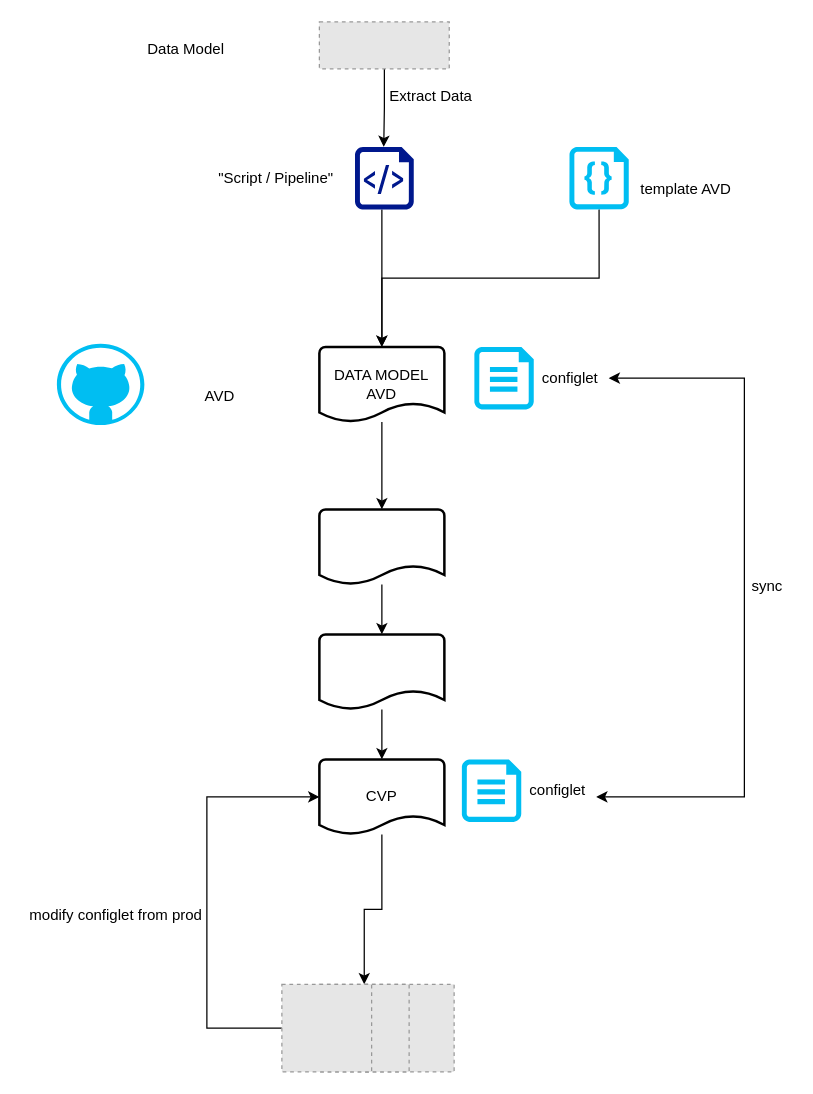
Image size: 813x1094. Some labels were removed from this diagram. Grey dashed boxes stand in for pictures. Each missing label, with the centre of its shape:
Config gen: (381,671)
Structured config (data): (381,546)
